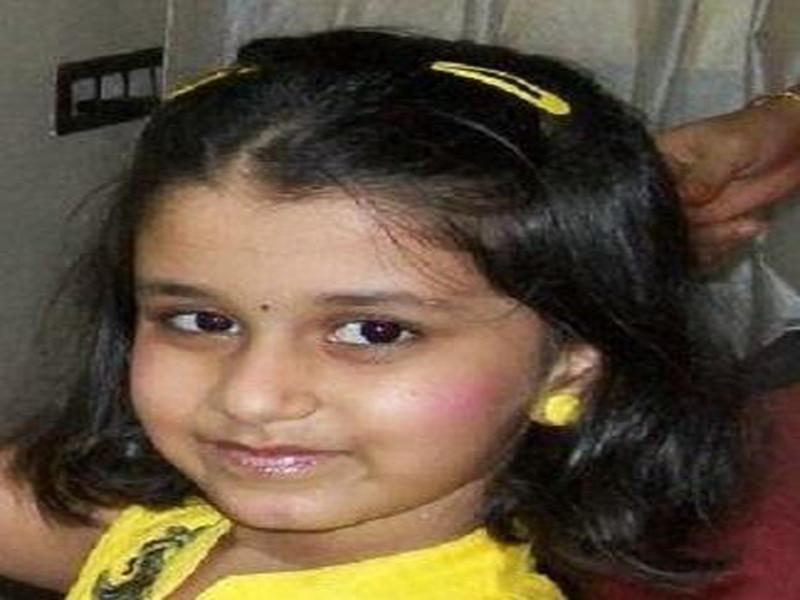without_mask: (129, 206, 527, 534)
